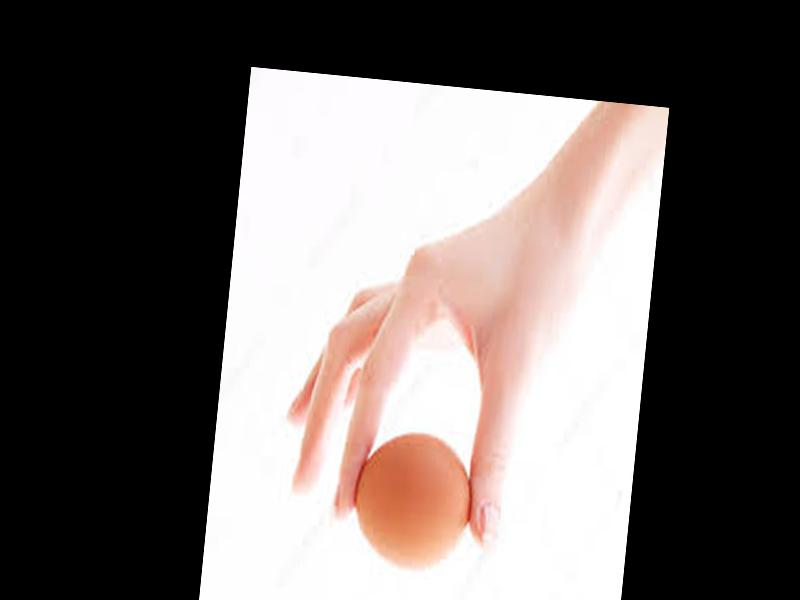Eggs: (347, 430, 478, 572)
